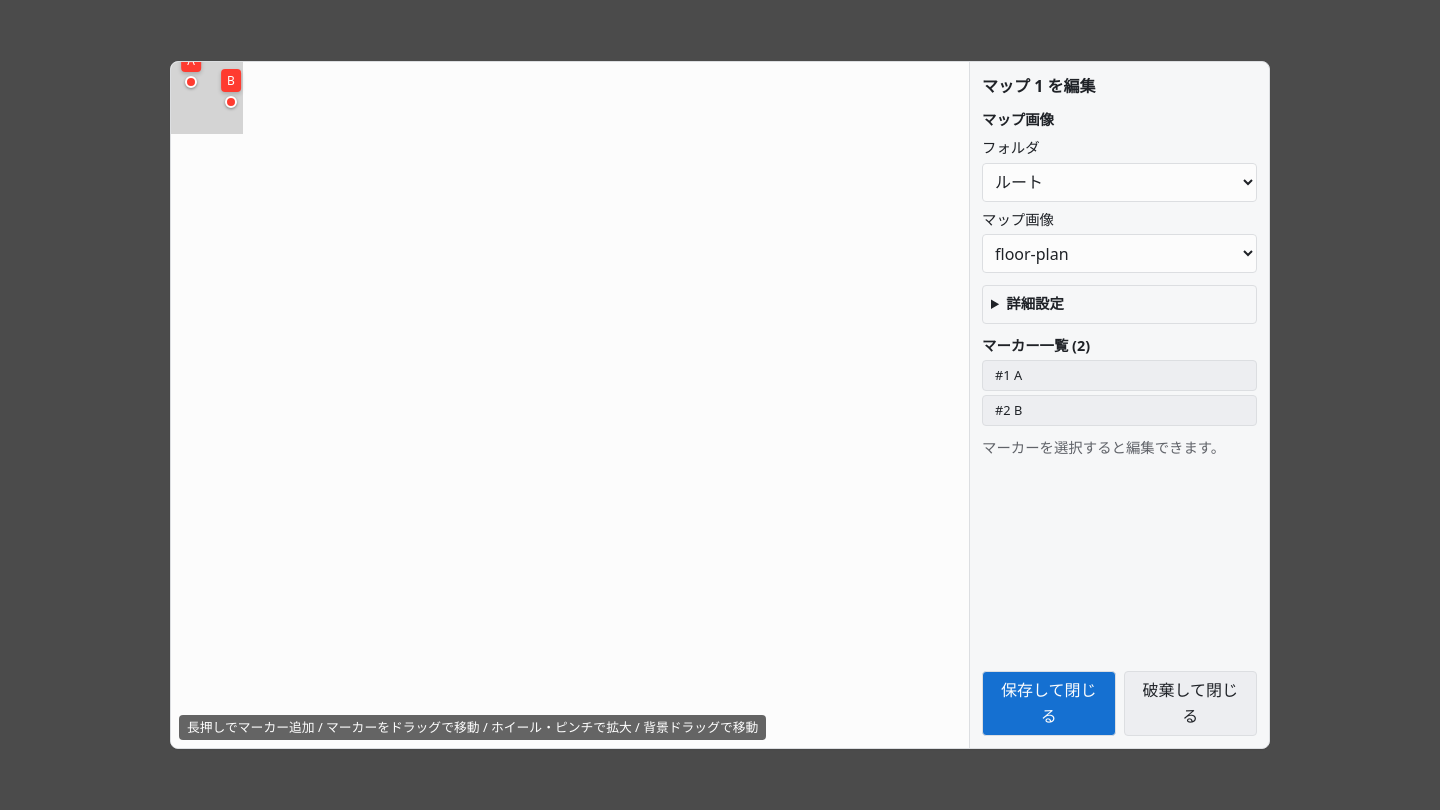
MapEditorModal › 右ペインは選択中1件のみ排他表示し、別マーカーへ切り替わる
Expected: the text "マーカーを選択すると編集できます。" is shown, [982, 438, 1257, 459]
Step 1. Click the button "#1 A" → x=1009, y=375, box [982, 360, 1257, 391]
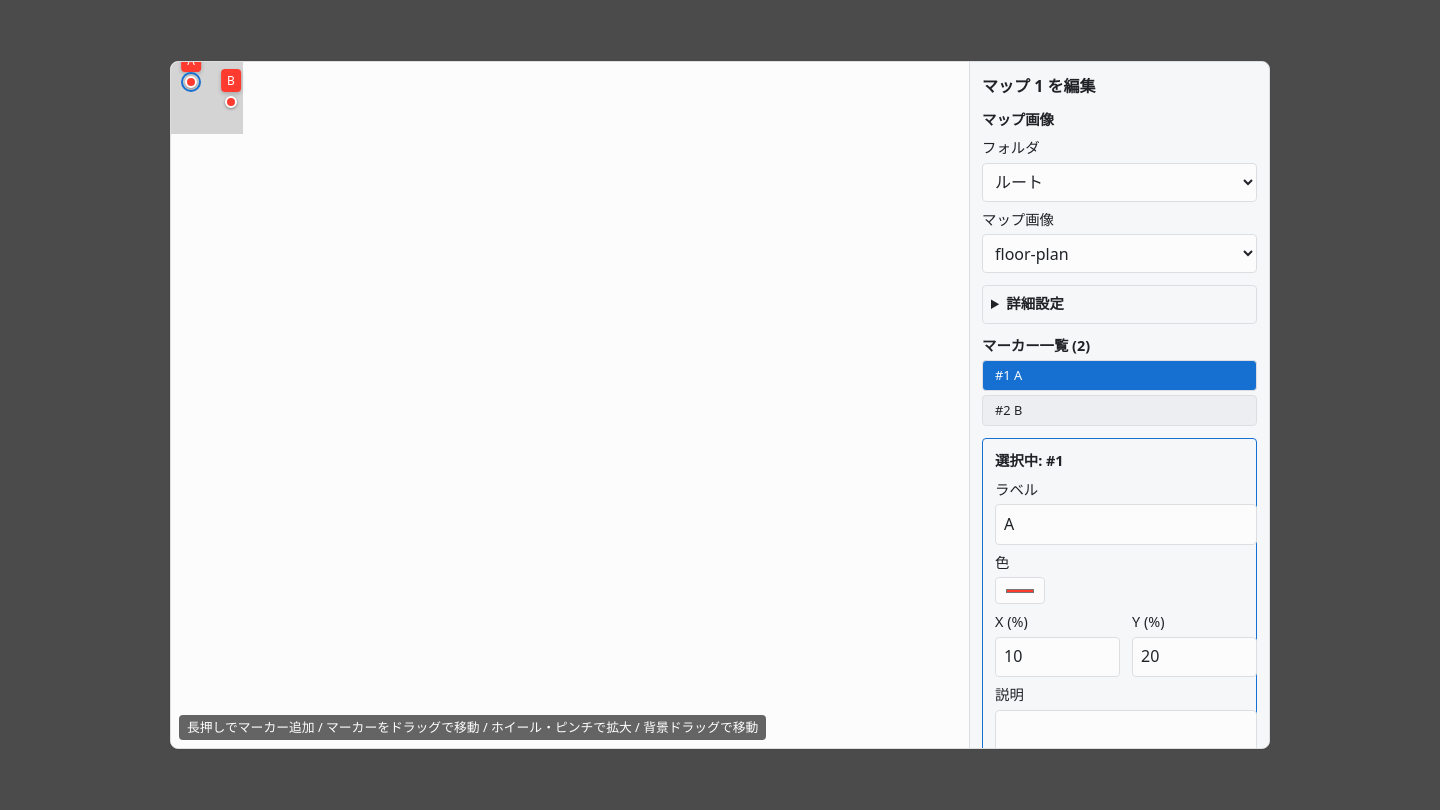
Now the heading "選択中: #1" is shown, box [995, 451, 1064, 470]
Now the number field labelled "X (%)" is shown, box [995, 637, 1120, 677]
Now the number field labelled "Y (%)" is shown, box [1132, 637, 1257, 677]
Step 2. Click the button "#2 B" → x=1009, y=410, box [982, 395, 1257, 426]
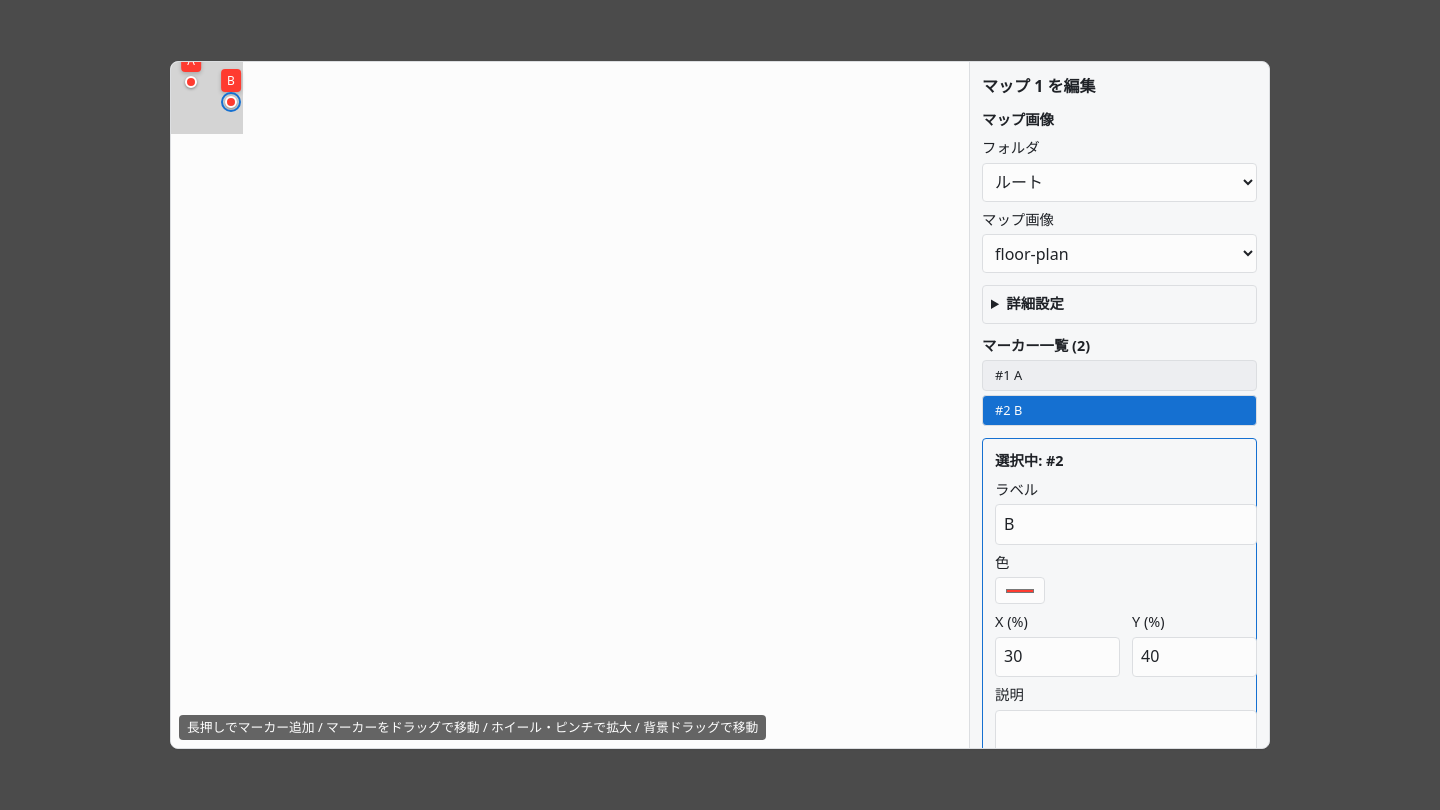
Now the number of fields labelled "ラベル" is 1, box [995, 504, 1257, 545]
Now the heading "選択中: #2" is shown, box [995, 451, 1064, 470]
Now the field labelled "ラベル" holds "B", box [995, 504, 1257, 545]
